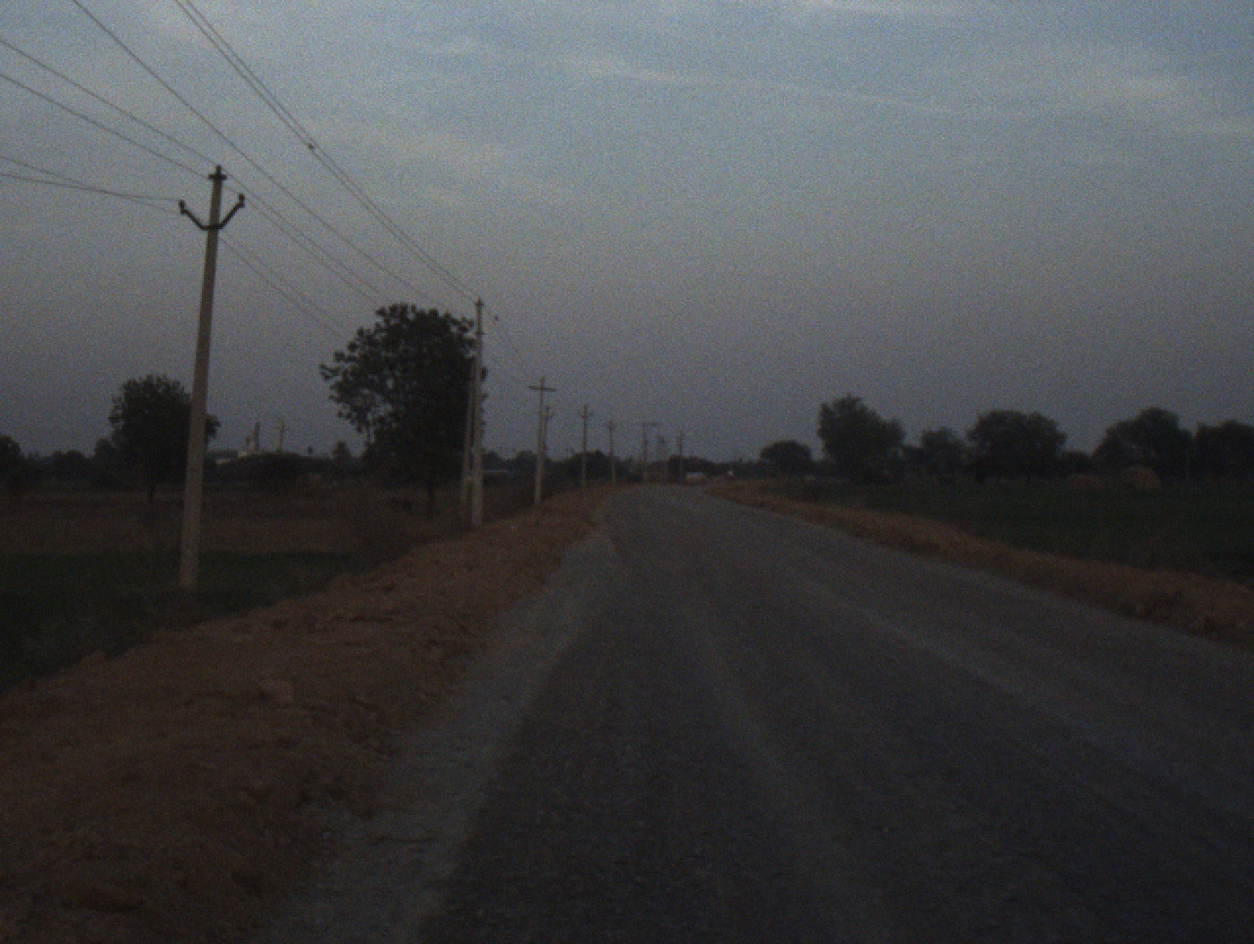vehicle fallback: (680, 452, 704, 487)
